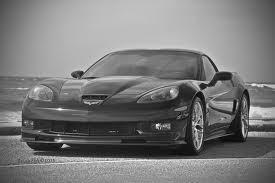car: (16, 45, 258, 157)
